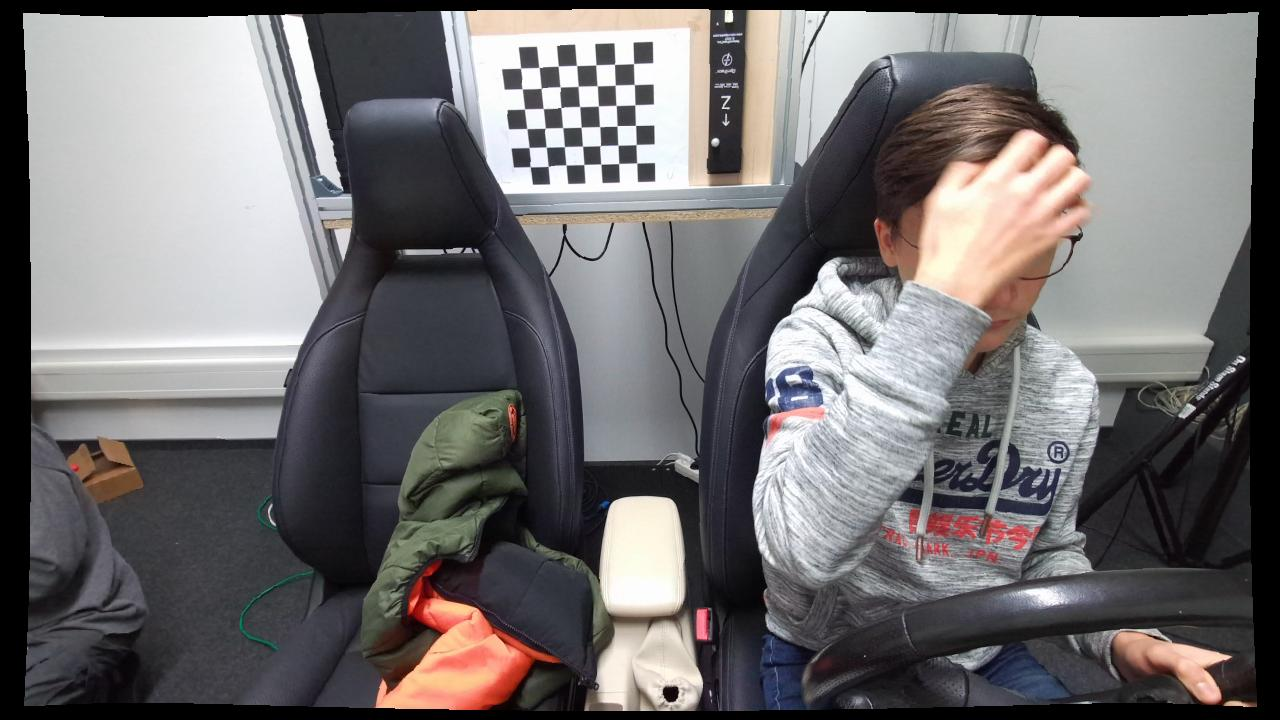Distracted: (748, 75, 1116, 711)
